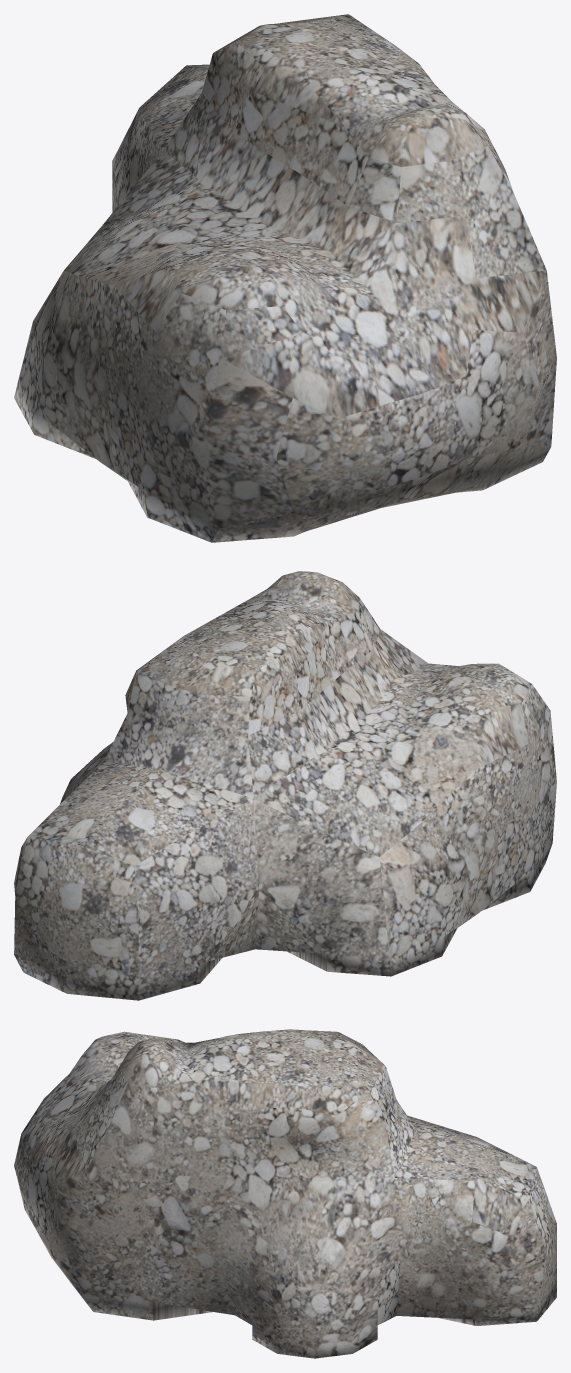
Rendered from Rock no cover 2.fbx.
3 views of the same model, one above another, from view 1: azimuth 30°, elevation 25°; view 2: azimuth 150°, elevation 25°; view 3: azimuth 270°, elevation 25° (orthographic). The views are drawn at different scales.
Visible parts, largest first — view 1: Rock; view 2: Rock; view 3: Rock.
Part boxes in pixels (<box>): Rock: <box>14,14,556,542</box>; Rock: <box>14,571,556,1000</box>; Rock: <box>14,1029,556,1358</box>.
Bounding box in the file's own units: 2.48 × 1.64 × 3.34.
1 material, 1 textured.
